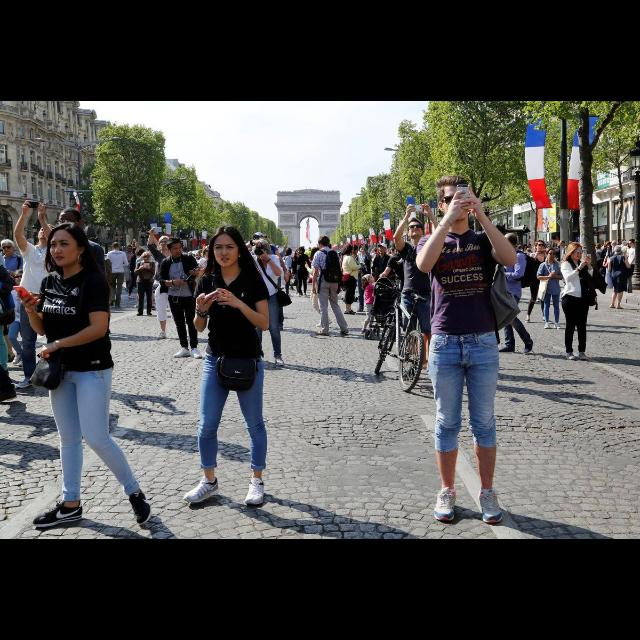head: (435, 175, 473, 221), (49, 223, 87, 267), (211, 226, 243, 268), (58, 208, 84, 238), (166, 240, 184, 258), (406, 221, 424, 239), (254, 240, 270, 260), (37, 223, 55, 240), (568, 243, 582, 261), (2, 240, 16, 256), (504, 234, 518, 250), (12, 271, 26, 285), (318, 236, 330, 250), (160, 236, 170, 252), (252, 232, 264, 245), (362, 274, 376, 284), (344, 244, 354, 256), (378, 244, 388, 256), (547, 249, 557, 261), (312, 248, 322, 260), (536, 240, 544, 252), (359, 244, 369, 252), (614, 247, 622, 256), (113, 243, 121, 251), (134, 248, 142, 256), (136, 248, 144, 256), (144, 253, 150, 263), (298, 248, 306, 255), (287, 248, 293, 256), (127, 245, 133, 252), (629, 240, 635, 247), (611, 242, 617, 248), (597, 244, 601, 250)
person: (12, 221, 154, 531), (414, 174, 524, 526), (182, 224, 272, 508), (43, 206, 111, 414), (12, 200, 64, 390), (392, 202, 446, 382), (234, 238, 294, 368), (559, 242, 609, 362), (158, 237, 204, 361), (492, 232, 538, 356), (145, 226, 187, 342), (248, 231, 290, 333), (310, 235, 350, 337), (6, 268, 36, 369), (0, 238, 30, 338), (524, 239, 554, 325), (536, 247, 564, 331), (308, 246, 334, 330), (340, 244, 366, 316), (606, 245, 632, 311), (359, 274, 386, 336), (106, 242, 130, 310), (134, 245, 158, 312), (371, 243, 393, 313), (134, 251, 156, 317), (354, 242, 374, 314), (602, 240, 624, 288), (294, 247, 312, 300), (127, 247, 143, 301), (282, 247, 296, 299), (120, 244, 134, 296), (590, 243, 606, 281), (626, 238, 638, 288)
